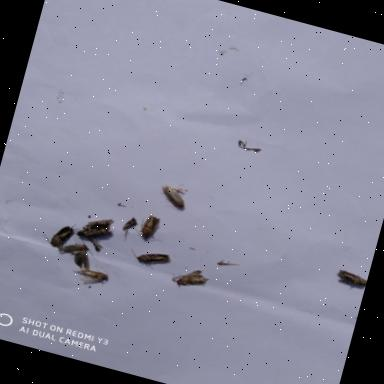pbw: (64, 218, 124, 249), (168, 262, 216, 298), (39, 218, 82, 258), (69, 257, 115, 292), (127, 210, 171, 246), (124, 243, 174, 274), (330, 264, 368, 298), (154, 181, 192, 214), (63, 243, 100, 273), (52, 236, 90, 260)
